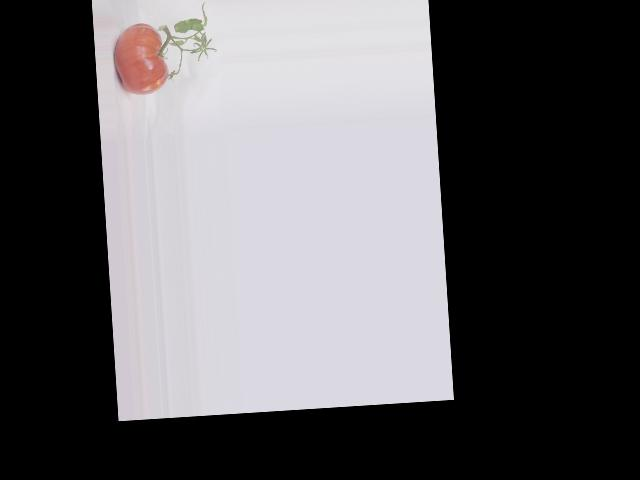tomato: (111, 21, 169, 96)
